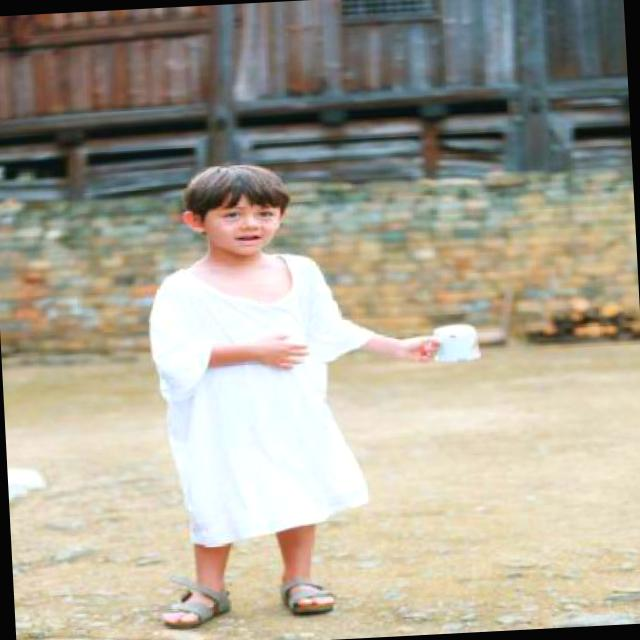Person: (146, 173, 397, 604)
